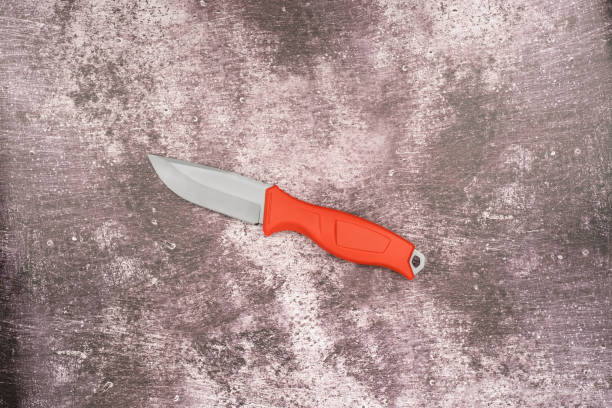knife: (142, 151, 427, 281)
